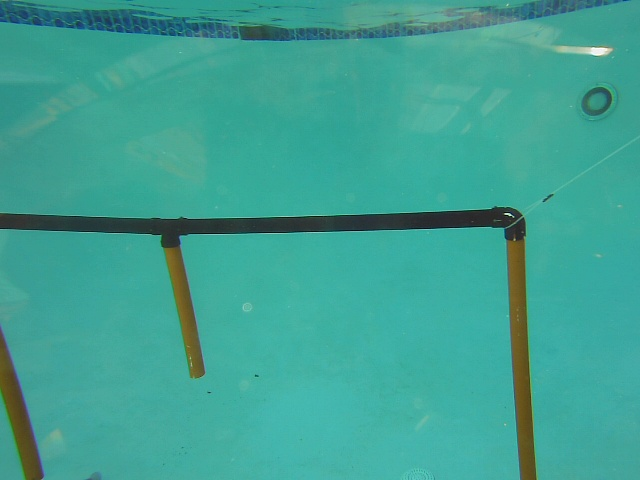Gate: (502, 233, 540, 480), (1, 334, 47, 478), (162, 239, 206, 382)
